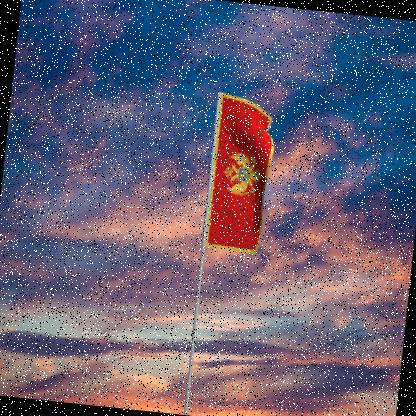me: (205, 94, 281, 259)
